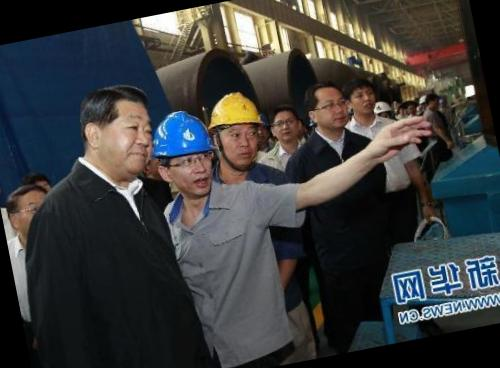no_helmet: (64, 71, 163, 187), (297, 78, 351, 140), (2, 180, 56, 240), (338, 74, 382, 126), (266, 100, 310, 148), (422, 92, 442, 110), (403, 98, 418, 116)
